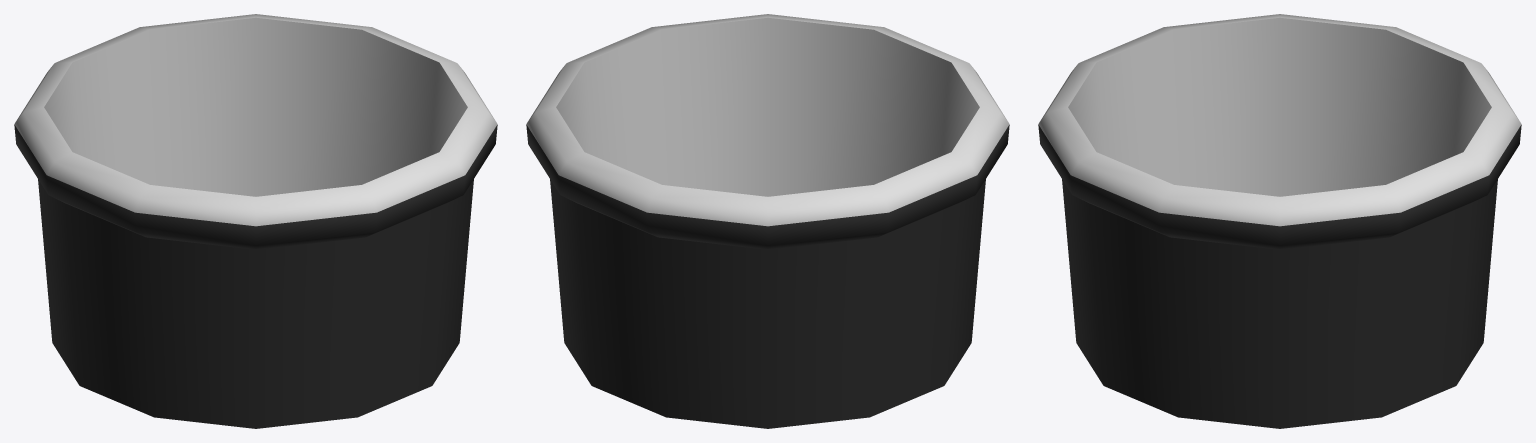
Rendered from MuffinMold_01.fbx.
The picture shows the model from 3 angles, left to right: view 1: azimuth 30°, elevation 25°; view 2: azimuth 150°, elevation 25°; view 3: azimuth 270°, elevation 25°; orthographic projection.
Parts seen in each view (by area): view 1: MuffinMold_01; view 2: MuffinMold_01; view 3: MuffinMold_01.
Part boxes in pixels (x1,y1,x2,y2): MuffinMold_01: (14, 14, 497, 428); MuffinMold_01: (526, 14, 1009, 428); MuffinMold_01: (1038, 14, 1521, 428).
Bounding box in the file's own units: 0.0632 × 0.034 × 0.0632.
